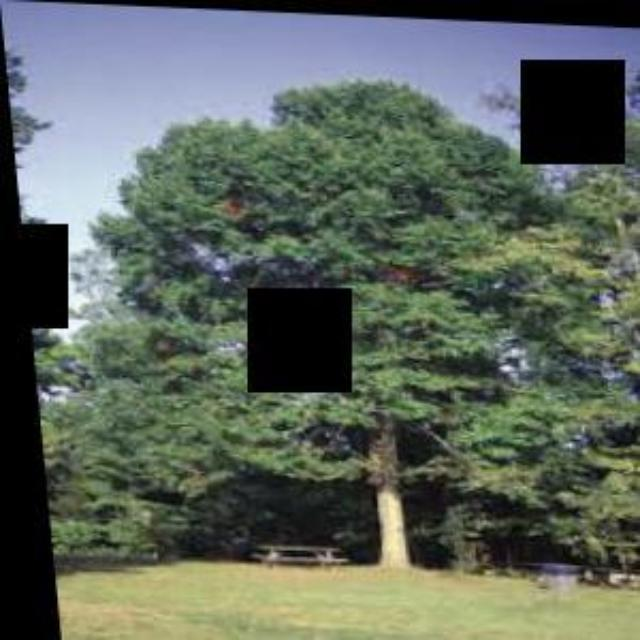tree: (64, 62, 606, 572)
